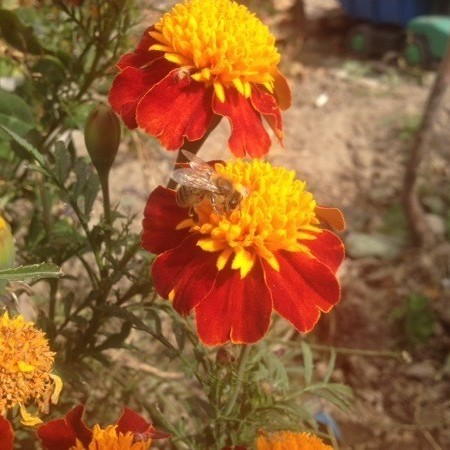obstacle: (96, 41, 352, 347)
